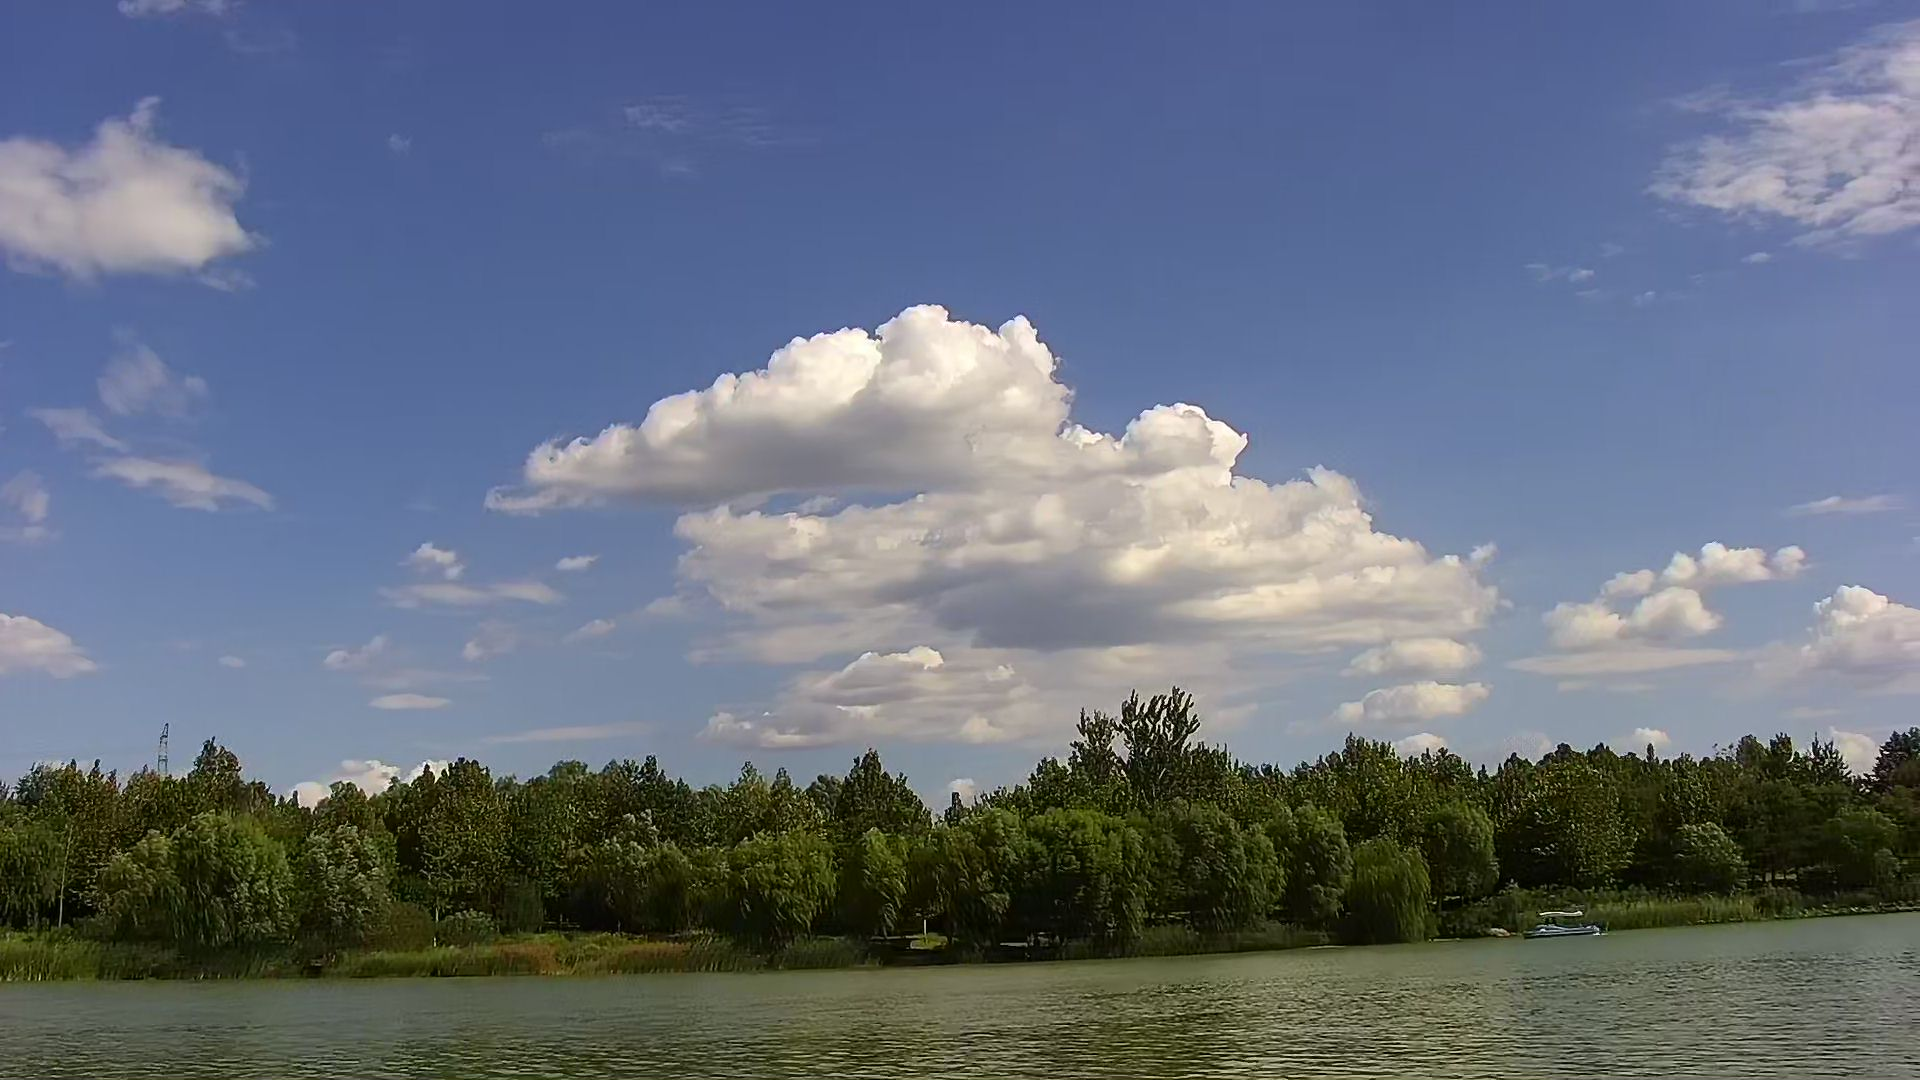boat: (1520, 905, 1615, 940)
